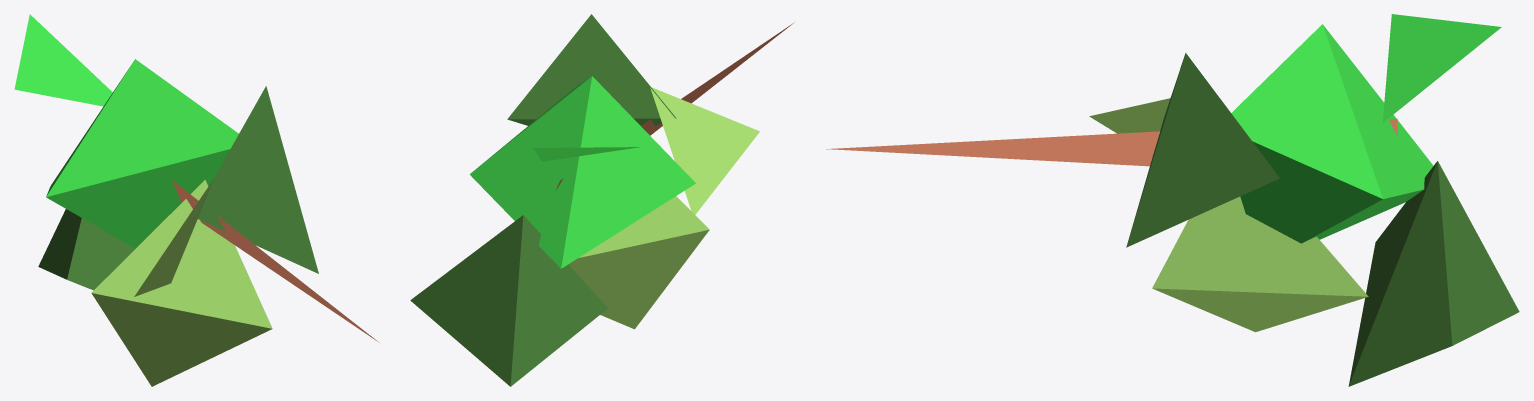
File: tree3.fbx
3 renders of one model, left to right at view 1: azimuth 30°, elevation 25°; view 2: azimuth 150°, elevation 25°; view 3: azimuth 270°, elevation 25°, orthographic. The views are drawn at different scales.
Visible parts, largest first — view 1: Icosphere.006; view 2: Icosphere.006; view 3: Icosphere.006.
Boxes of the visible parts, x1,y1,x2,y2 form: Icosphere.006: (14, 14, 379, 386); Icosphere.006: (410, 14, 794, 386); Icosphere.006: (826, 14, 1519, 386).
Size of the model in its own units: 565 by 1332 by 690.
